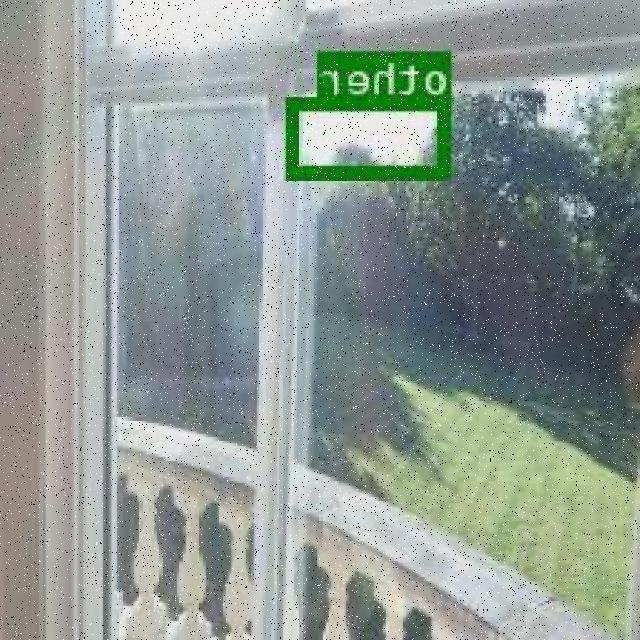other: (288, 95, 452, 176)
